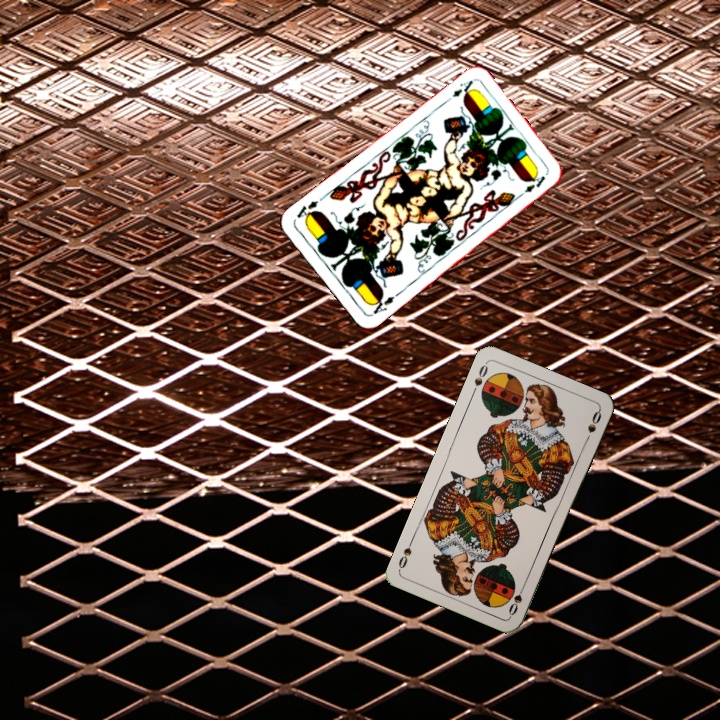EA: (441, 76, 476, 106), (366, 291, 397, 318)
SO: (504, 580, 528, 618), (468, 359, 490, 398)
